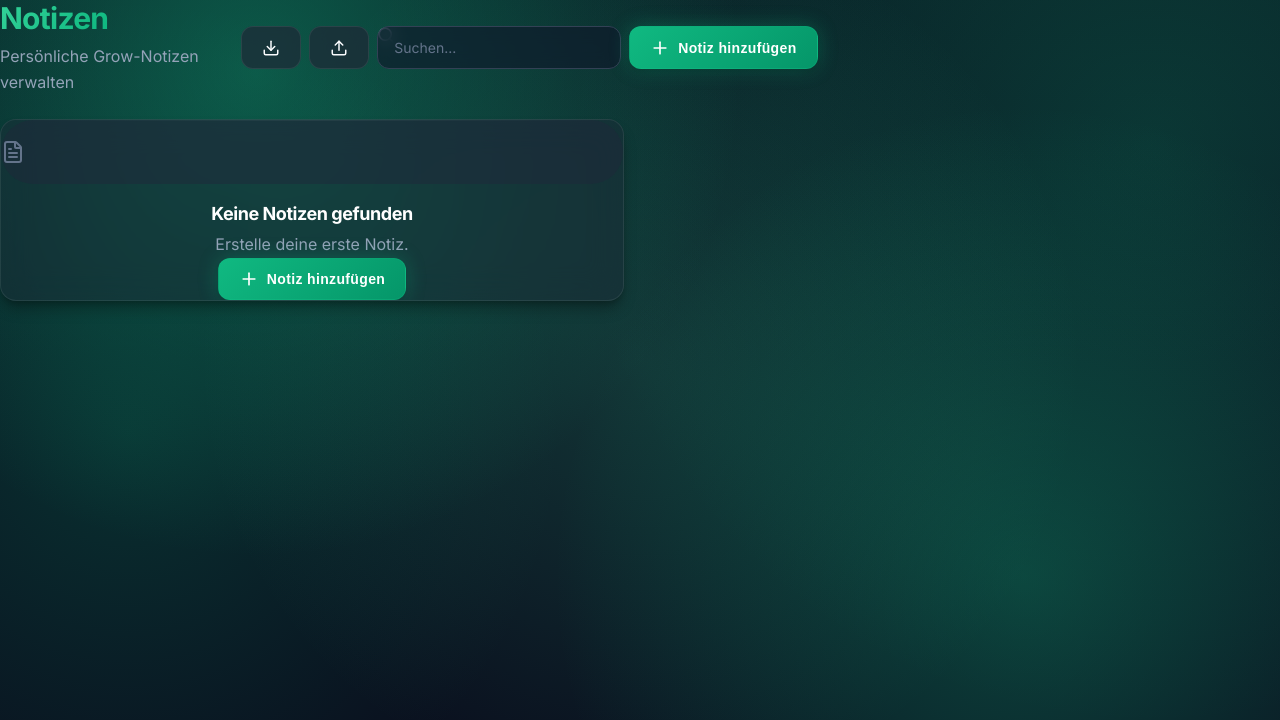
Test: Notes Component › opens the add note form when clicking new note button
The image size is (1280, 720).
Click the button "Notiz hinzufügen" in the row of "Persönliche Grow-Notizen verwalten" at coordinates (723, 48), box [629,26,818,69]
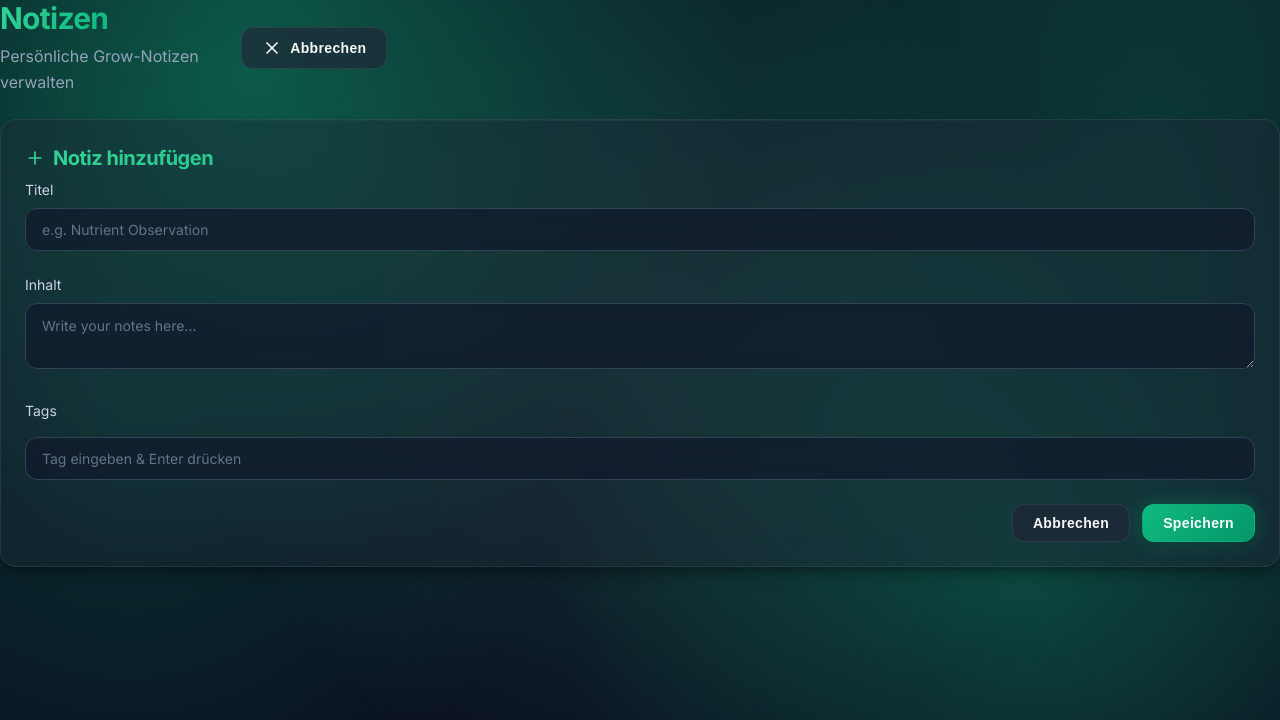
Expected: the field with placeholder "e.g. Nutrient Observation" is shown, [25,208,1255,251]
